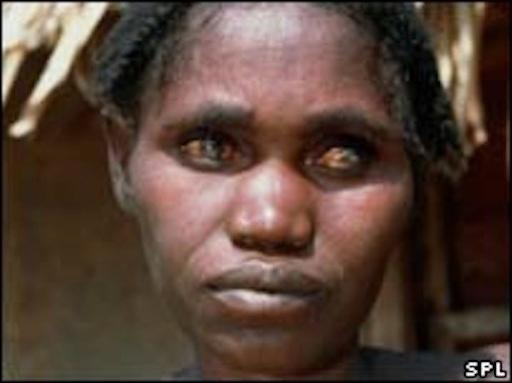left_eye: (315, 144, 369, 172)
left_lip_corner: (308, 271, 339, 310)
right_eye: (176, 134, 247, 170)
right_lip_corner: (194, 278, 222, 301)
